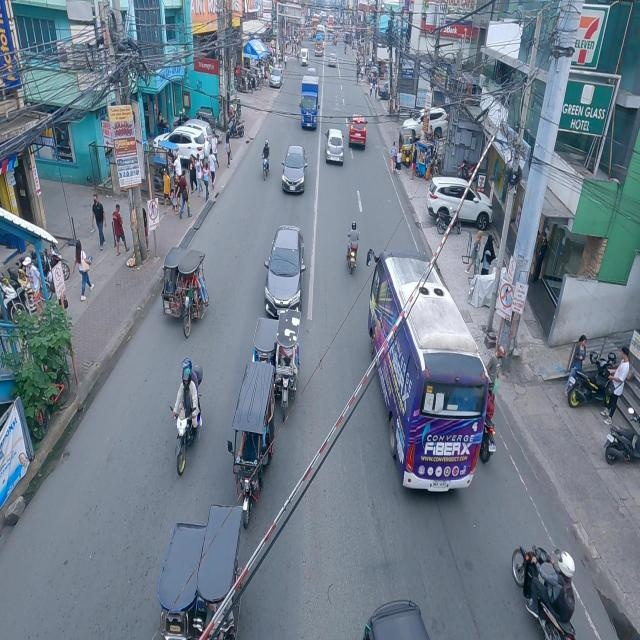Truck: (299, 74, 320, 133)
